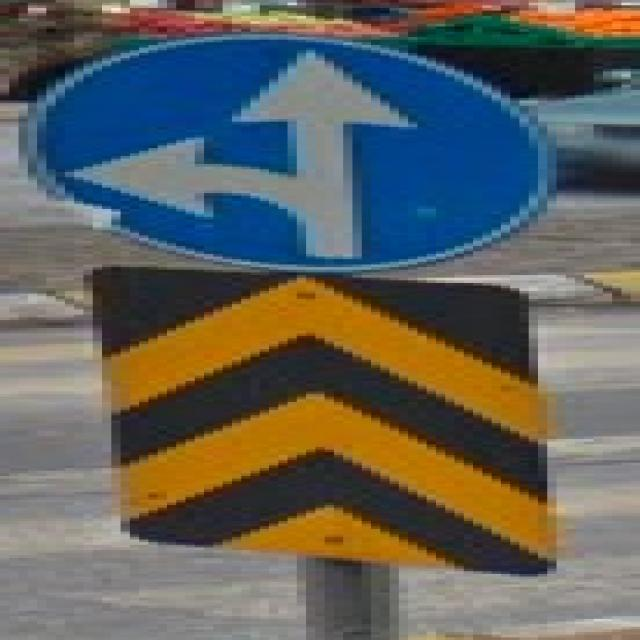Straight or Left: (24, 36, 553, 274)
